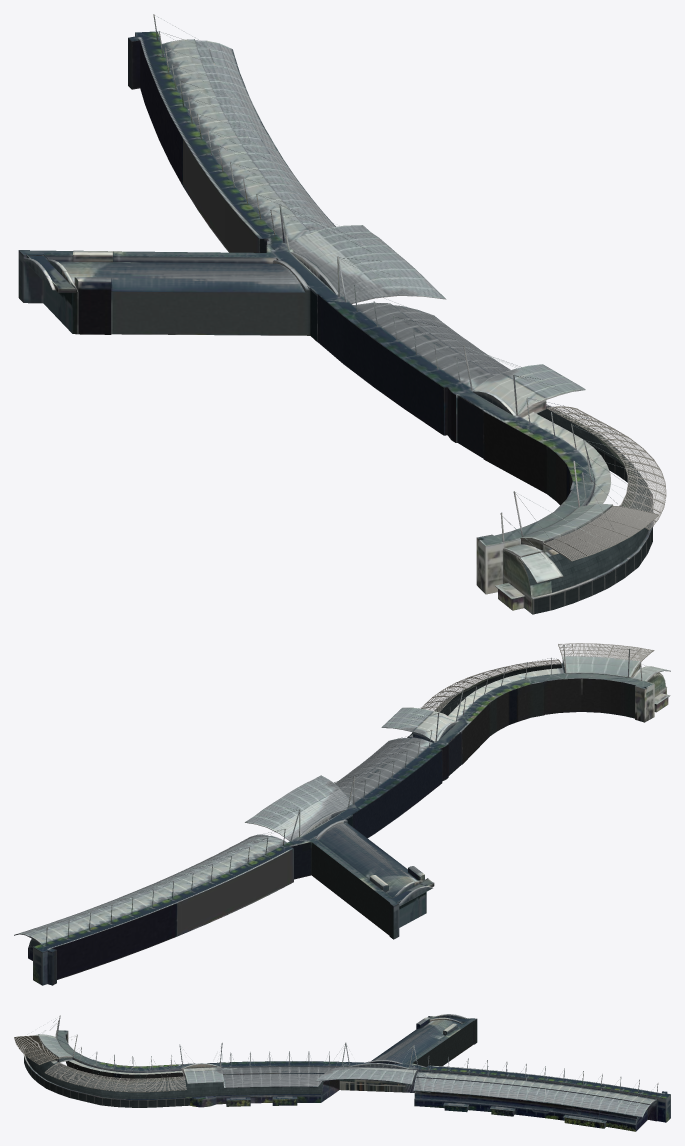
The picture shows the model from 3 angles, top to bottom: view 1: azimuth 30°, elevation 25°; view 2: azimuth 150°, elevation 25°; view 3: azimuth 270°, elevation 25°; orthographic projection. The views are drawn at different scales.
Parts seen in each view (by area): view 1: 1_0.glb; view 2: 1_0.glb; view 3: 1_0.glb.
Part boxes in pixels (box(x1,y1,x2,y2)): 1_0.glb: box(18, 14, 666, 614); 1_0.glb: box(14, 643, 670, 985); 1_0.glb: box(14, 1014, 670, 1131).
Bounding box in the file's own units: 198 × 44.88 × 576.
4 materials, 3 textured.
